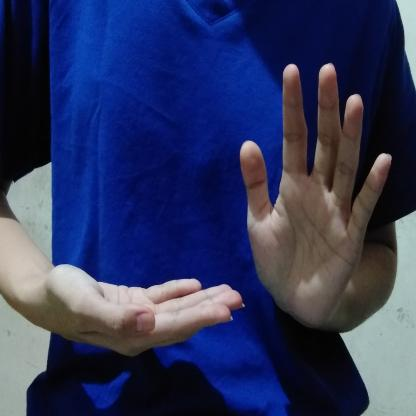hello: (42, 56, 401, 364)
